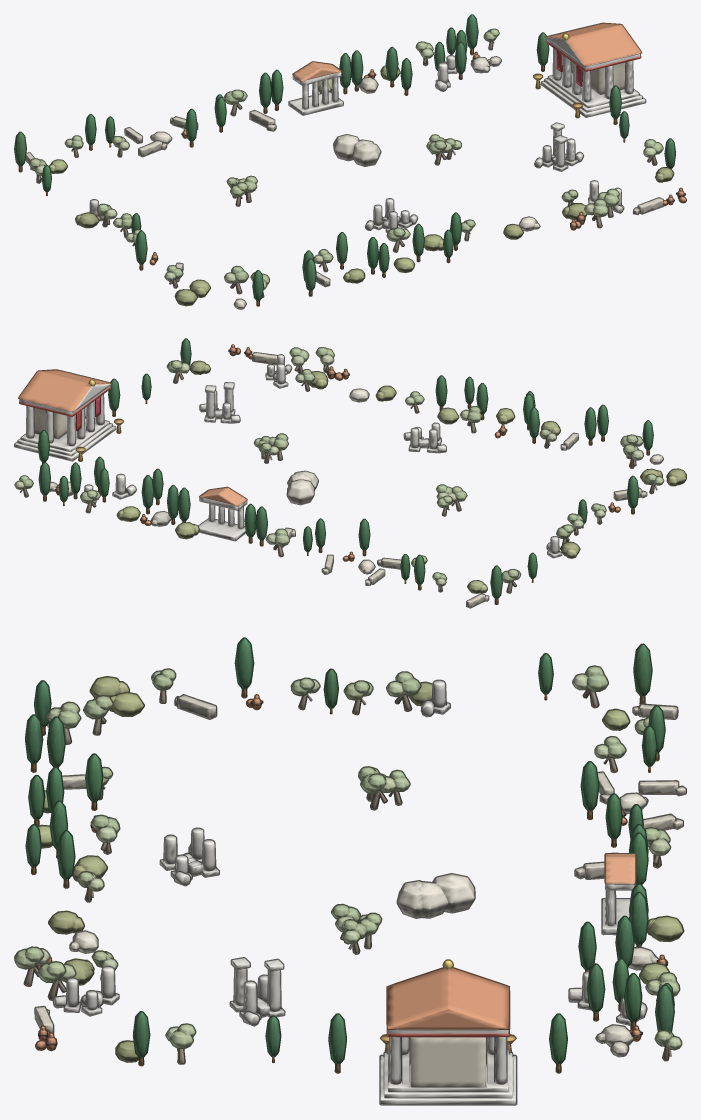
The model's file is olive_hills.glb.
3 renders of one model, top to bottom at view 1: azimuth 30°, elevation 25°; view 2: azimuth 150°, elevation 25°; view 3: azimuth 270°, elevation 25°, orthographic. The views are drawn at different scales.
Visible parts, largest first — view 1: Baked_matte, Baked_matte_Outline; view 2: Baked_matte, Baked_matte_Outline; view 3: Baked_matte, Baked_matte_Outline.
Boxes of the visible parts, x1,y1,x2,y2 form: Baked_matte: (15,15,685,308); Baked_matte_Outline: (14,14,686,309); Baked_matte: (14,339,686,607); Baked_matte_Outline: (14,338,686,608); Baked_matte: (15,638,685,1104); Baked_matte_Outline: (14,637,686,1105).
Bounding box in the file's own units: 39.23 × 4.98 × 26.82.
